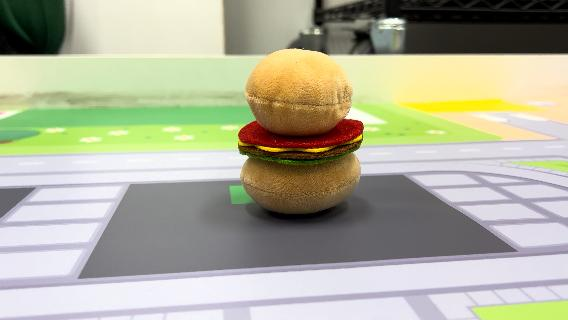burger: (235, 45, 368, 217)
